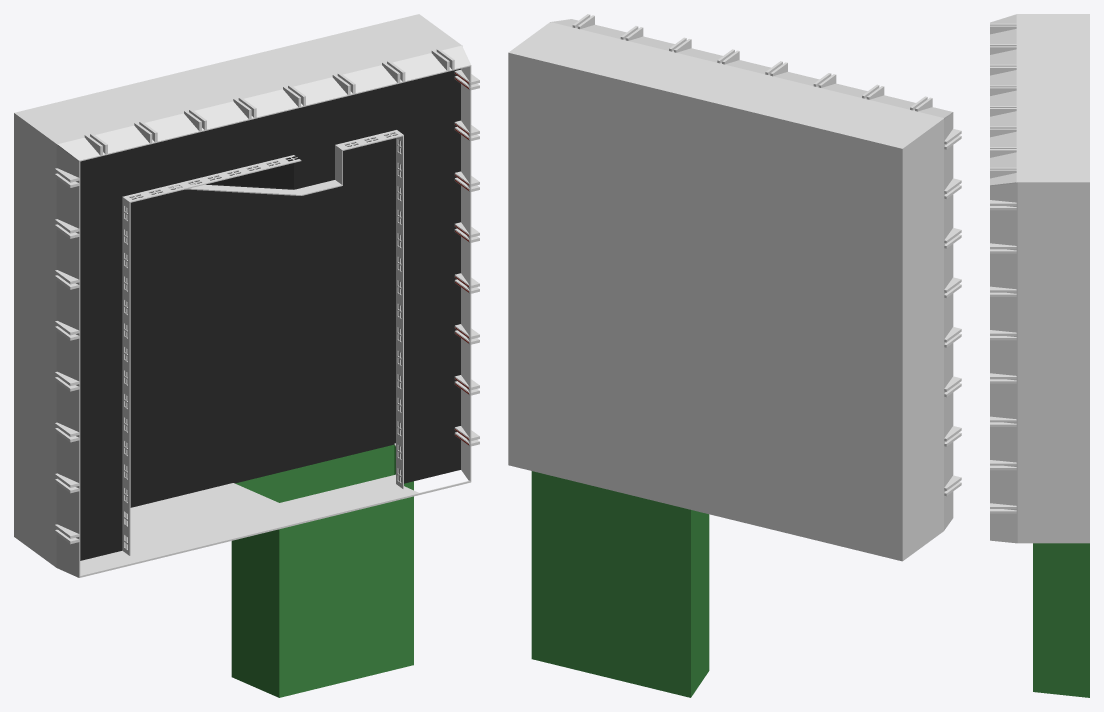
Rendered from la_Raza_Cargo_bay v7.fbx.
3 views of the same model, side by side, from view 1: azimuth 30°, elevation 25°; view 2: azimuth 150°, elevation 25°; view 3: azimuth 270°, elevation 25° (orthographic). The views are drawn at different scales.
Visible parts, largest first — view 1: Body28, Body34; view 2: Body28, Body34; view 3: Body28, Body34.
Part boxes in pixels (<box>): Body28: <box>14,14,479,577</box>; Body34: <box>231,444,413,697</box>; Body28: <box>508,14,961,561</box>; Body34: <box>531,471,709,697</box>; Body28: <box>990,14,1089,543</box>; Body34: <box>1033,543,1089,697</box>.
Bounding box in the file's own units: 1263 × 1827 × 313.
